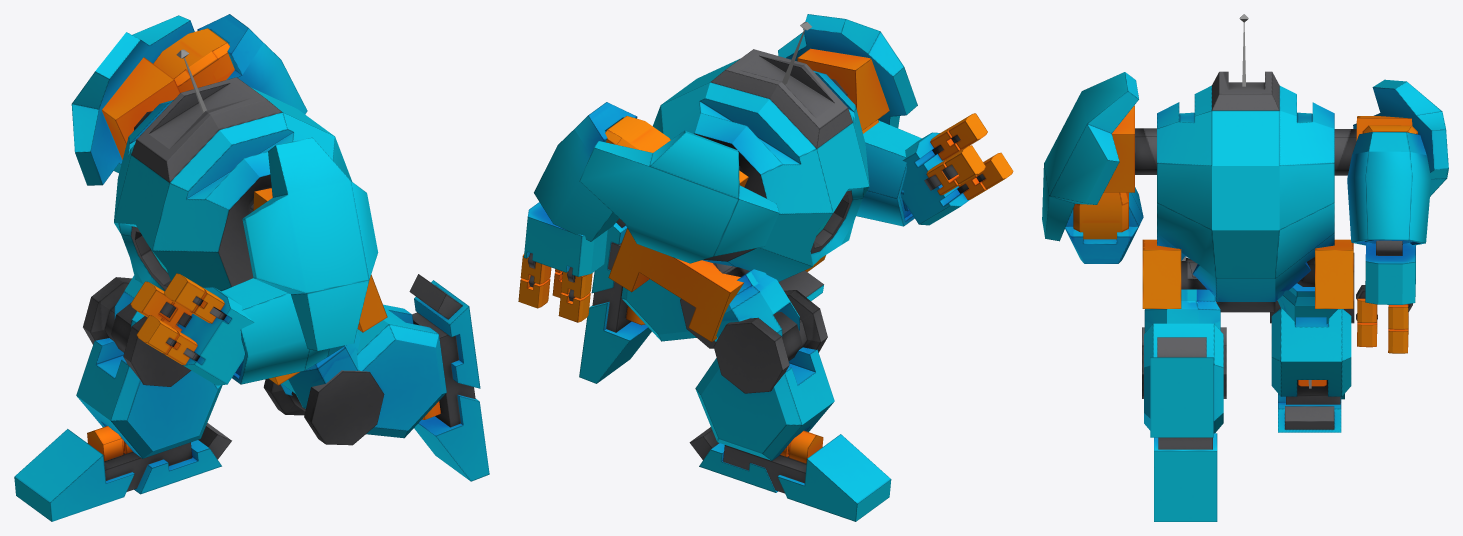
File: Walk2.obj
The picture shows the model from 3 angles, left to right: view 1: azimuth 30°, elevation 25°; view 2: azimuth 150°, elevation 25°; view 3: azimuth 270°, elevation 25°; orthographic projection. The views are drawn at different scales.
Visible parts, largest first — view 1: Plane001, Object006, Object010, Object002, Object013, Object011, Object014, Object008, Object007, Object003, Object012, Object009; view 2: Plane001, Object002, Object010, Object011, Object006, Object008, Object004, Object003, Object014, Object007, Object009, Object013; view 3: Plane001, Object006, Object014, Object003, Object010, Object004, Object002, Object013, Object011, Object012, Object007, Object009 (+2 smaller).
Part boxes in pixels (bbox=[...]): Plane001: bbox=[114, 77, 387, 385]; Object006: bbox=[242, 137, 378, 350]; Object010: bbox=[76, 277, 222, 458]; Object002: bbox=[71, 15, 234, 185]; Object013: bbox=[263, 304, 446, 445]; Object011: bbox=[14, 423, 231, 521]; Object014: bbox=[409, 274, 489, 481]; Object008: bbox=[130, 273, 254, 385]; Object007: bbox=[221, 278, 344, 384]; Object003: bbox=[197, 14, 307, 114]; Object012: bbox=[280, 332, 360, 408]; Object009: bbox=[114, 275, 144, 327]; Plane001: bbox=[608, 49, 869, 342]; Object002: bbox=[579, 116, 779, 263]; Object010: bbox=[695, 290, 834, 460]; Object011: bbox=[689, 427, 891, 521]; Object006: bbox=[778, 14, 917, 133]; Object008: bbox=[901, 113, 1013, 225]; Object004: bbox=[518, 202, 607, 322]; Object003: bbox=[534, 102, 637, 241]; Object014: bbox=[579, 218, 651, 383]; Object007: bbox=[856, 120, 921, 226]; Object009: bbox=[713, 263, 799, 341]; Object013: bbox=[621, 279, 715, 348]; Plane001: bbox=[1142, 71, 1353, 312]; Object006: bbox=[1042, 72, 1138, 241]; Object014: bbox=[1150, 337, 1217, 521]; Object003: bbox=[1347, 132, 1431, 245]; Object010: bbox=[1270, 253, 1354, 396]; Object004: bbox=[1356, 240, 1415, 353]; Object002: bbox=[1353, 79, 1448, 196]; Object013: bbox=[1142, 323, 1226, 433]; Object011: bbox=[1278, 380, 1344, 432]; Object012: bbox=[1144, 257, 1220, 332]; Object007: bbox=[1065, 187, 1143, 263]; Object009: bbox=[1277, 257, 1337, 324].
Size of the model in its own units: 175 by 201 by 182.
